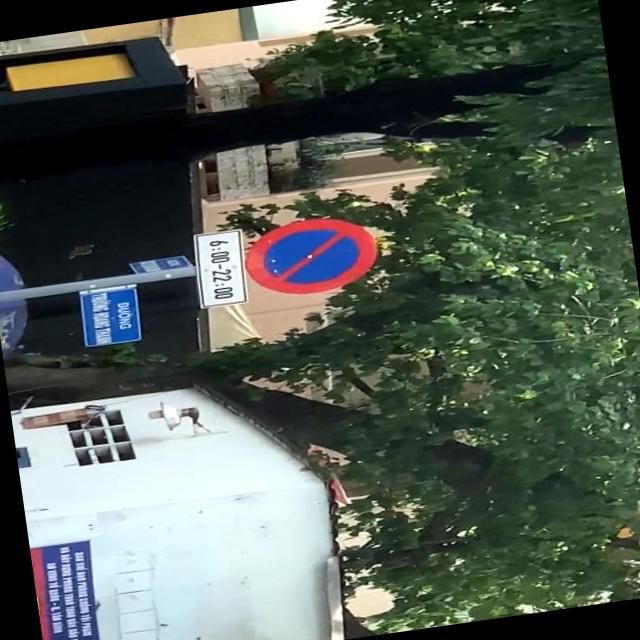P-131a: (238, 210, 383, 300)
